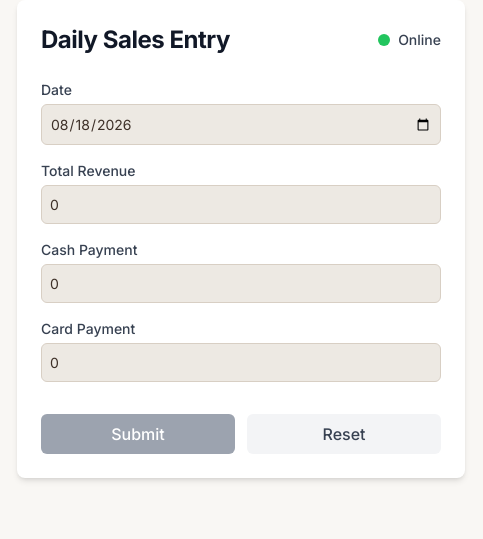
SalesForm Component › 음수 입력은 검증 에러를 표시한다
The width and height of the screenshot is (483, 539).
Replace the text in the number field labelled "Total Revenue" with "-100". click: (241, 204)
box: x1=41 y1=185 x2=441 y2=224
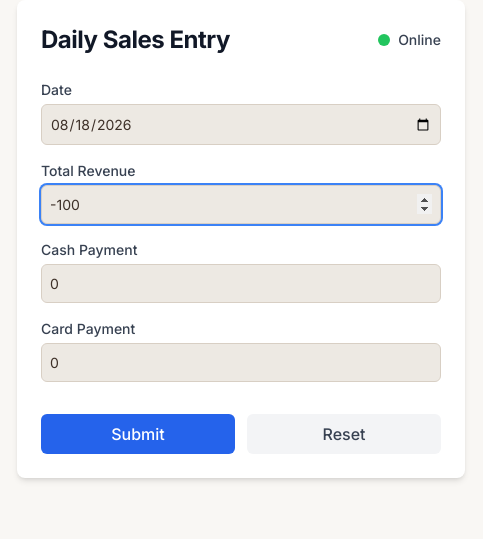
Click the button "Submit". click: (138, 434)
box: x1=41 y1=414 x2=235 y2=454
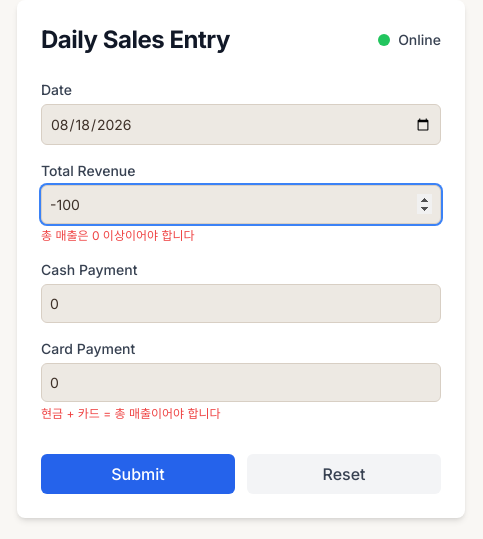
Result: the text "총 매출은 0 이상이어야 합니다" is shown at x1=41 y1=228 x2=195 y2=243
